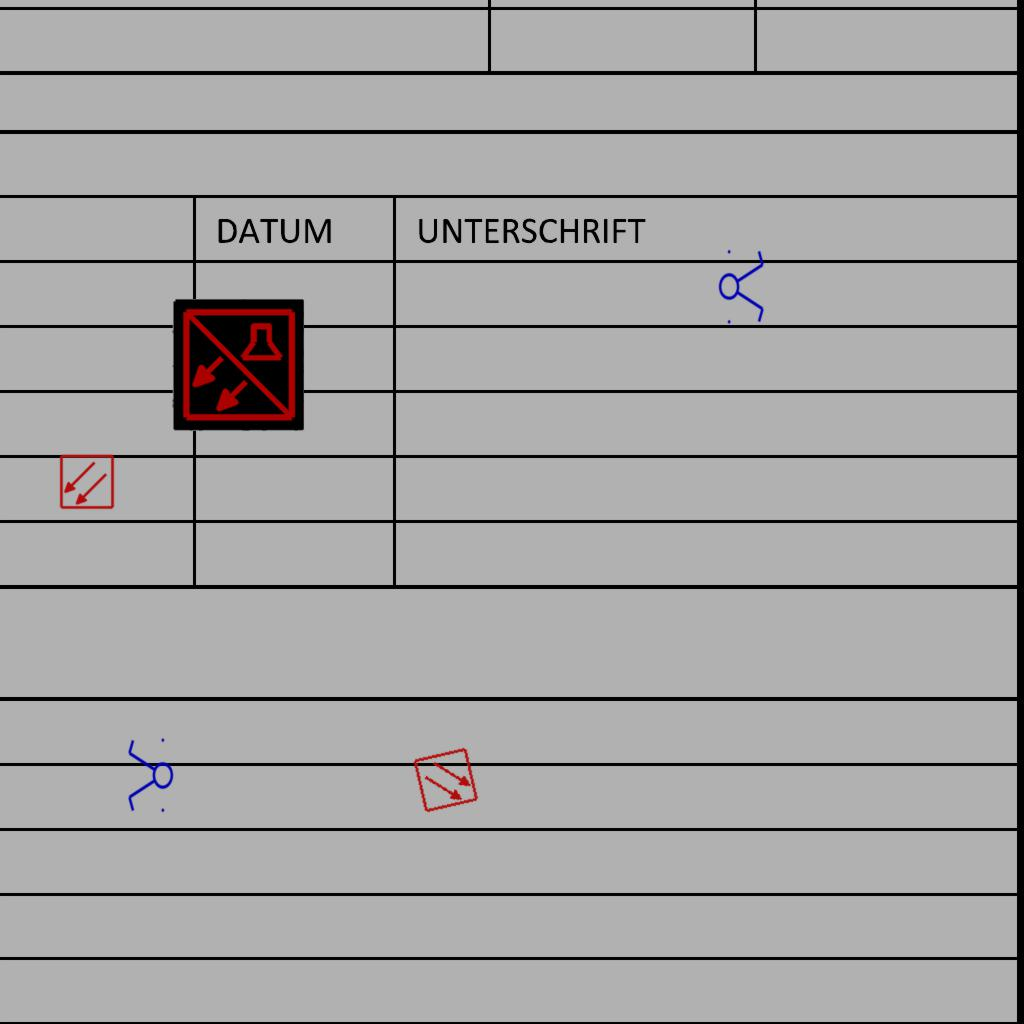OKW_Multisensormelder_(Kombination_optischer_Rauch-Kahlenmonoxid_Waerme-Melder): (172, 299, 304, 431)
RMO_Rauchmelder_optischer: (412, 746, 480, 814), (59, 454, 115, 510)
Serienschalter: (126, 734, 174, 818), (718, 244, 766, 328)
